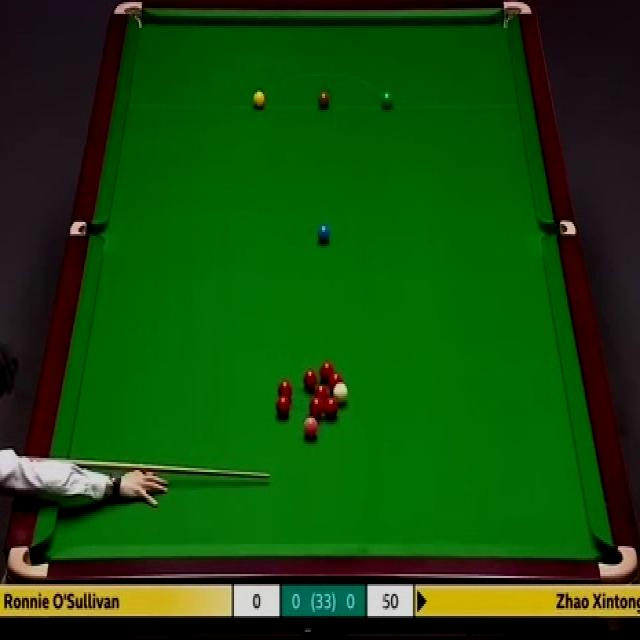blue-ball: (317, 221, 332, 246)
brown-ball: (317, 91, 331, 111)
green-ball: (382, 90, 396, 112)
pink-ball: (302, 416, 320, 440)
red-ball: (276, 395, 292, 419), (323, 397, 339, 421), (307, 383, 324, 405), (319, 359, 334, 381), (309, 398, 324, 418), (278, 380, 292, 400), (303, 369, 317, 389), (330, 373, 343, 391)
white-ball: (333, 382, 348, 406)
yellow-ball: (252, 90, 266, 110)
